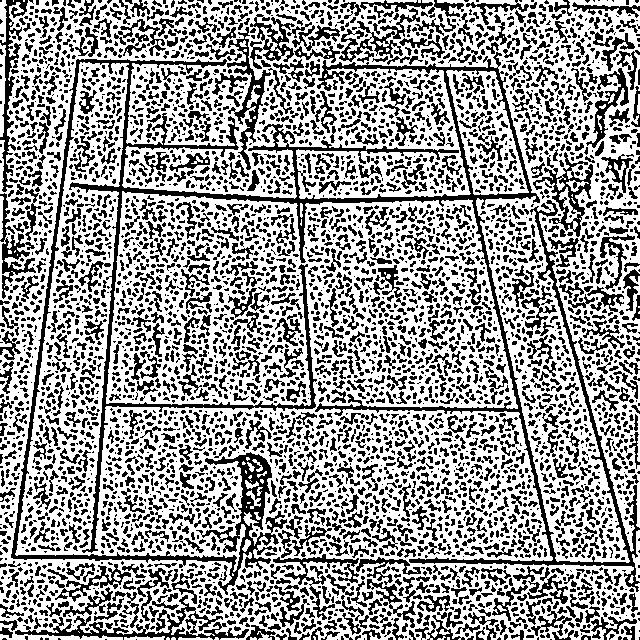left side: (444, 69, 634, 565), (11, 60, 131, 559)
player: (206, 431, 276, 590), (230, 57, 265, 191)
